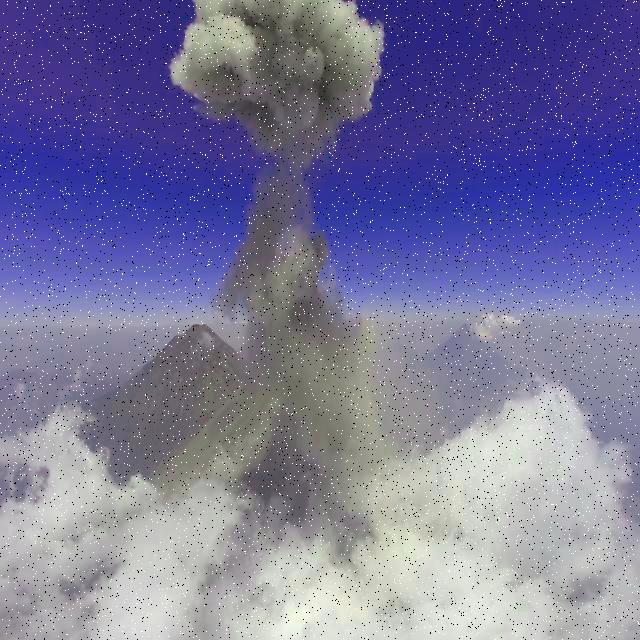Plume: (218, 180, 382, 467), (172, 1, 388, 160)
